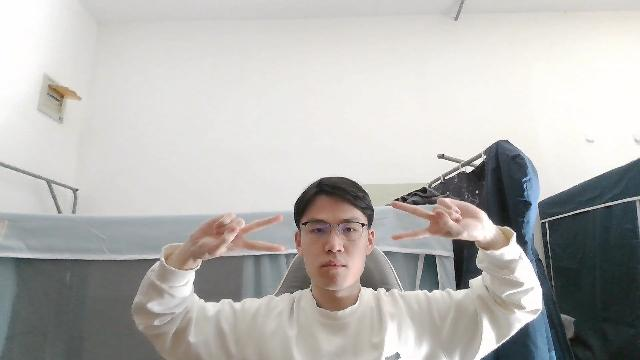yes: (176, 208, 291, 266), (385, 193, 502, 245)
